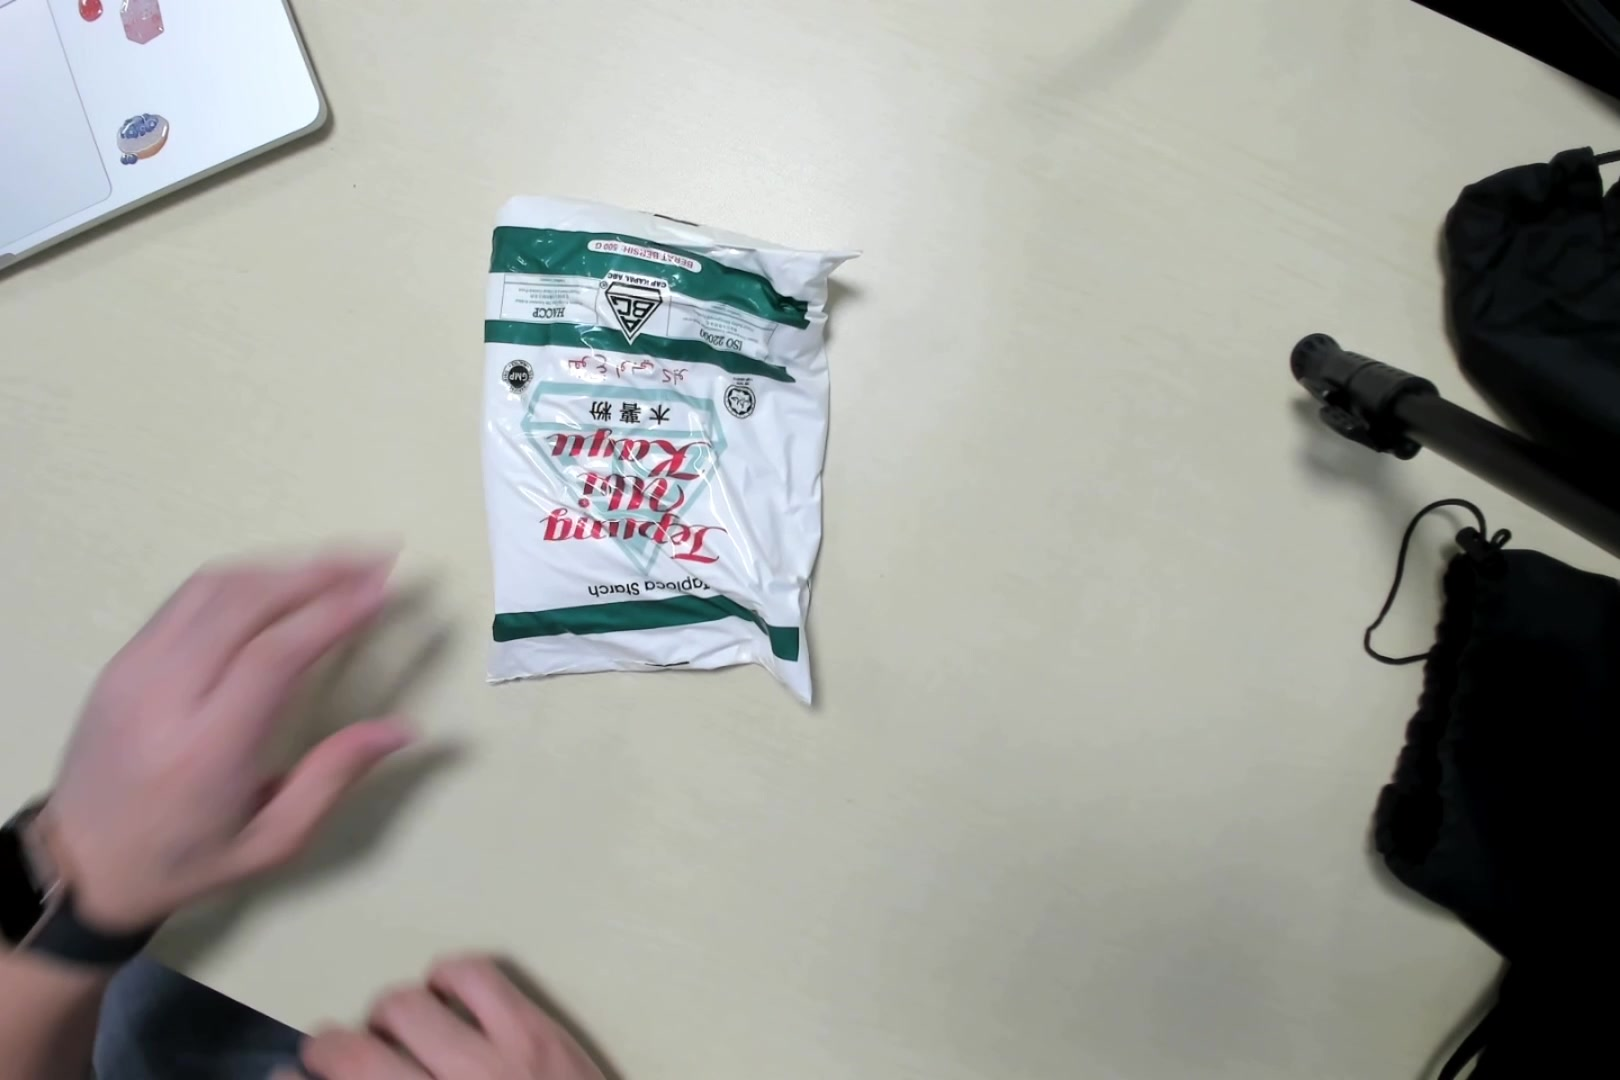Flour_500-599g_Halal_NonHealthy: (472, 181, 826, 697)
